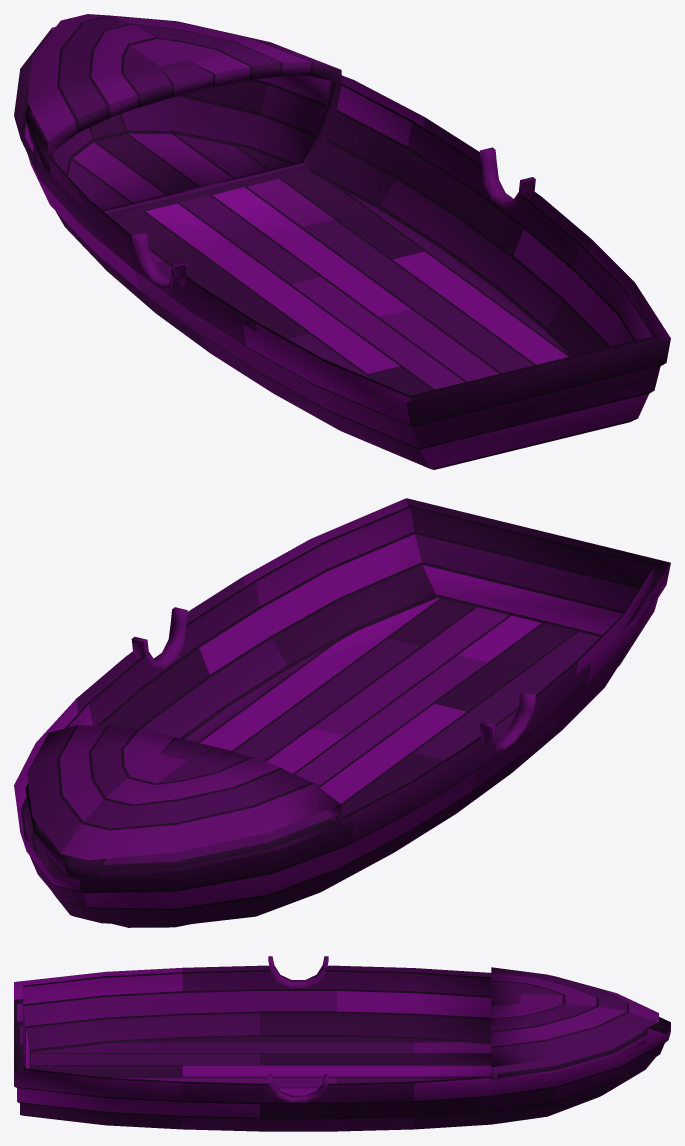
3 views of the same model, one above another, from view 1: azimuth 30°, elevation 25°; view 2: azimuth 150°, elevation 25°; view 3: azimuth 270°, elevation 25° (orthographic). The views are drawn at different scales.
Parts seen in each view (by area): view 1: 58220; view 2: 58220; view 3: 58220.
Part boxes in pixels (<box>): 58220: <box>14,14,670,469</box>; 58220: <box>14,498,670,927</box>; 58220: <box>14,956,670,1131</box>.
Bounding box in the file's own units: 4.8 × 1.53 × 10.9.
